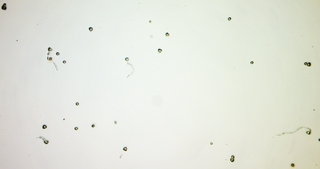germinated: (123, 55, 131, 65), (40, 136, 50, 144), (304, 126, 312, 135), (45, 45, 53, 54)
nongerminated: (0, 3, 8, 11), (89, 122, 97, 129), (121, 145, 128, 152), (247, 58, 254, 65), (88, 25, 95, 32), (41, 123, 48, 130), (156, 46, 162, 54), (163, 31, 170, 37), (289, 161, 296, 167), (112, 120, 119, 126), (47, 55, 53, 62), (73, 100, 80, 106), (307, 60, 313, 66), (226, 15, 232, 21), (54, 50, 60, 56), (73, 125, 79, 131), (229, 153, 235, 158), (61, 58, 66, 64), (228, 158, 235, 162), (303, 60, 307, 66)
